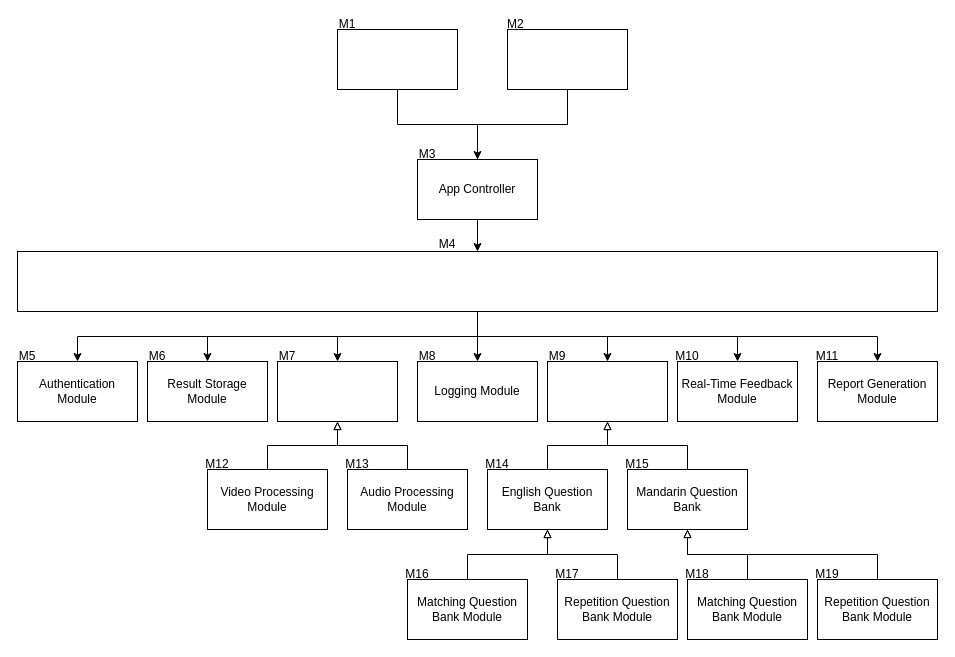
This 955x657 diagram has some shape labels left out. The shapes that lost their labels are listed below. From the top down, each one's box as (x1, y1, x2, y2) in pixels, then its label:
(336, 28, 458, 90): Clinician GUI
(506, 28, 628, 90): Parent GUI
(16, 250, 938, 312): API Gateway
(276, 360, 398, 422): Media Processing Module
(546, 360, 668, 422): Question Bank Module
